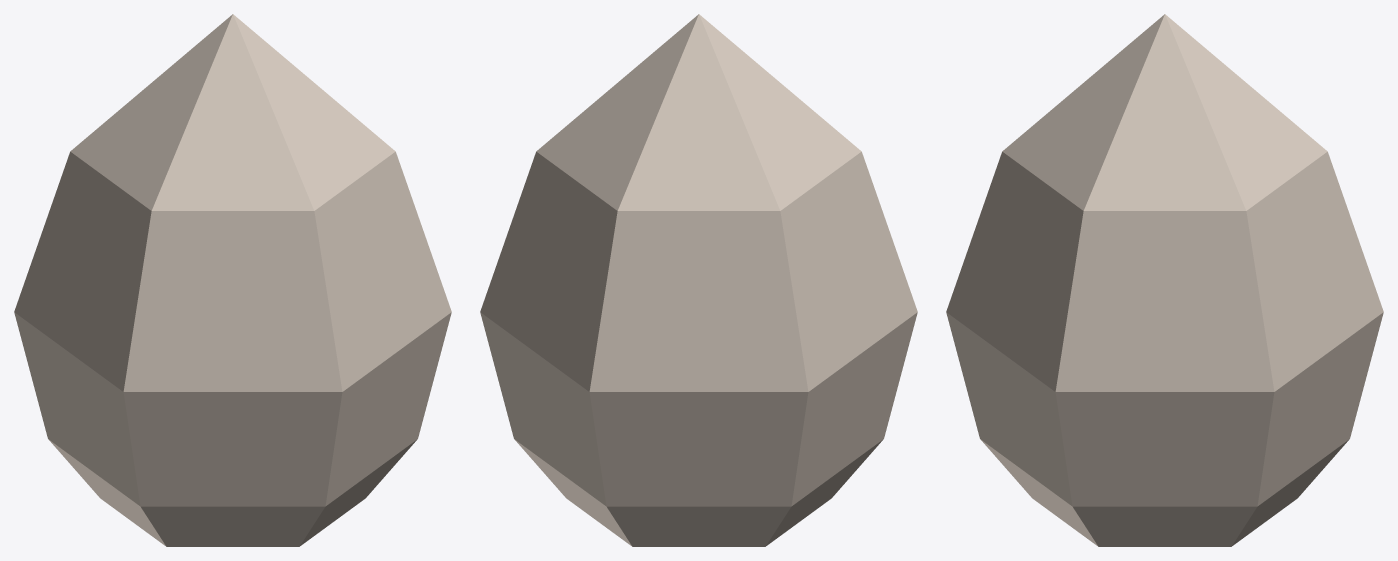
The model's file is Egg1.fbx.
3 renders of one model, left to right at view 1: azimuth 30°, elevation 25°; view 2: azimuth 150°, elevation 25°; view 3: azimuth 270°, elevation 25°, orthographic.
Parts seen in each view (by area): view 1: Cylinder; view 2: Cylinder; view 3: Cylinder.
Part boxes in pixels (<box>): Cylinder: <box>14,14,451,546</box>; Cylinder: <box>480,14,917,546</box>; Cylinder: <box>946,14,1383,546</box>.
Size of the model in its own units: 0.107 by 0.1632 by 0.1236.
